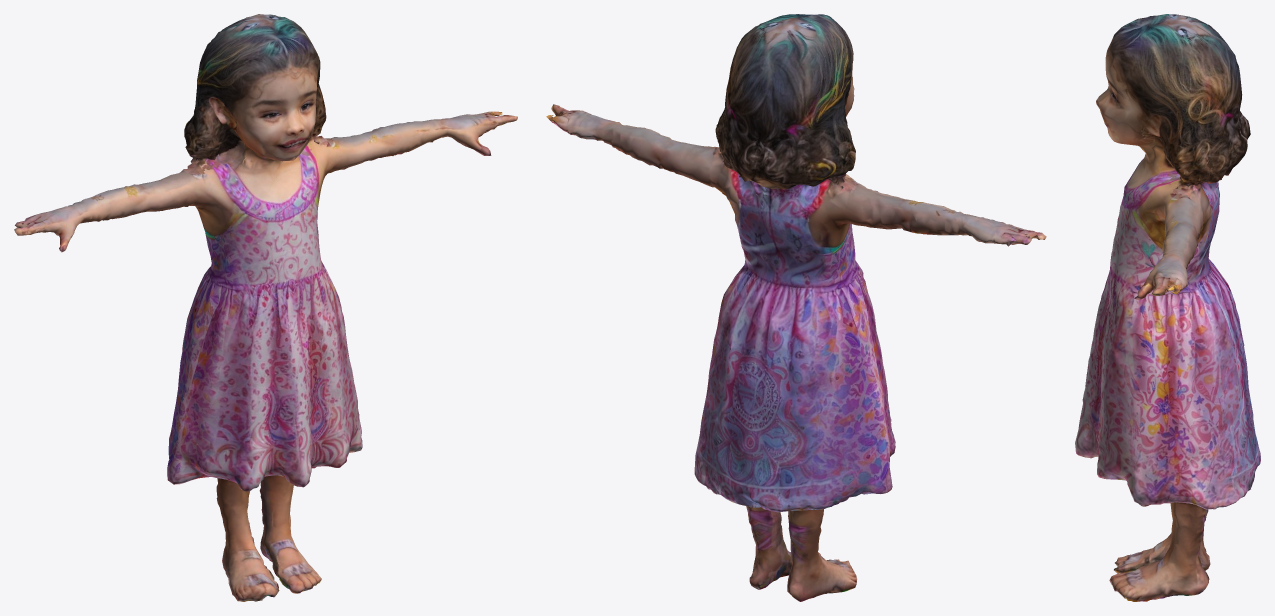
File: girl.glb
3 views of the same model, side by side, from view 1: azimuth 30°, elevation 25°; view 2: azimuth 150°, elevation 25°; view 3: azimuth 270°, elevation 25° (orthographic). The views are drawn at different scales.
Parts seen in each view (by area): view 1: Mesh_0_Material_0.001_0; view 2: Mesh_0_Material_0.001_0; view 3: Mesh_0_Material_0.001_0.
Part boxes in pixels (x1,y1,x2,y2): Mesh_0_Material_0.001_0: (14, 14, 517, 601); Mesh_0_Material_0.001_0: (546, 14, 1046, 601); Mesh_0_Material_0.001_0: (1075, 14, 1260, 601).
Bounding box in the file's own units: 1.11 × 1.2 × 0.3561.
Materials: 1 (1 with a texture image).
